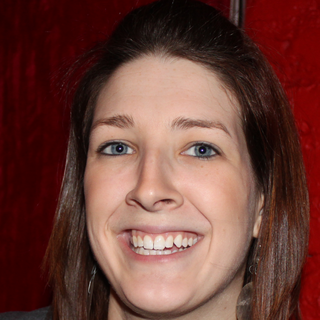eye: (172, 135, 225, 164), (92, 138, 143, 161)
